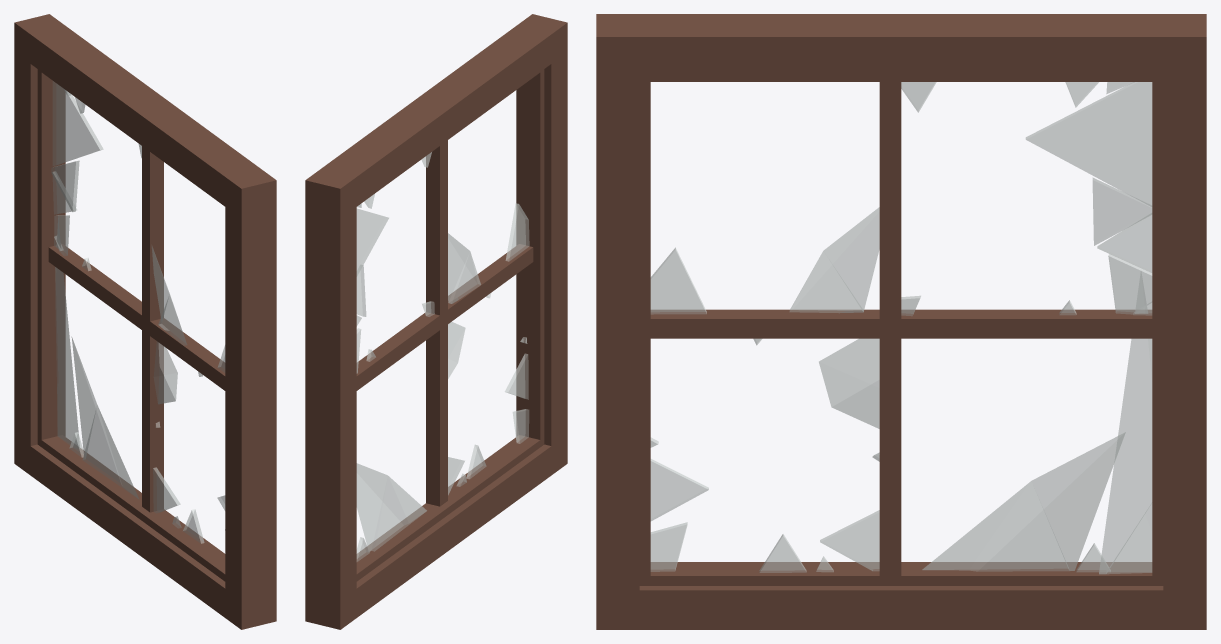
File: Window.glb
3 renders of one model, left to right at view 1: azimuth 30°, elevation 25°; view 2: azimuth 150°, elevation 25°; view 3: azimuth 270°, elevation 25°, orthographic. The views are drawn at different scales.
Parts seen in each view (by area): view 1: Node; view 2: Node; view 3: Node.
Part boxes in pixels (x1,y1,x2,y2): Node: (14, 14, 276, 629); Node: (305, 14, 567, 629); Node: (596, 14, 1206, 629).
Size of the model in its own units: 0.05 by 0.6 by 0.56.
